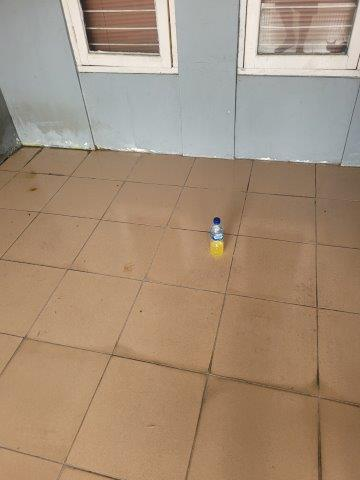botolplastik: (211, 217, 224, 256)
